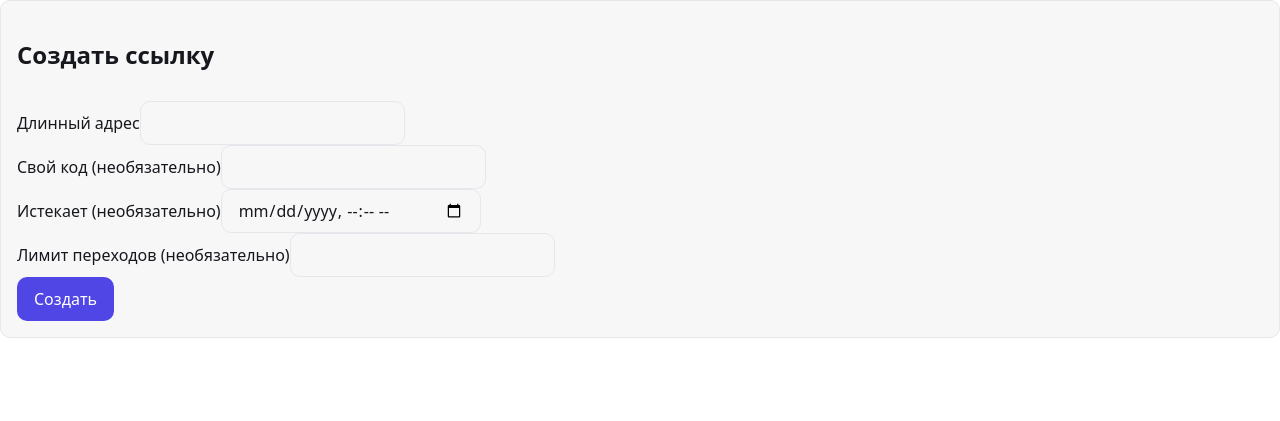
Test: LinkForm › префикс не из этой формы кладёт текст под форму, а не под поле
Type "https://example.com" into the field labelled "Длинный адрес" at [272, 123], box [140,101,405,145]
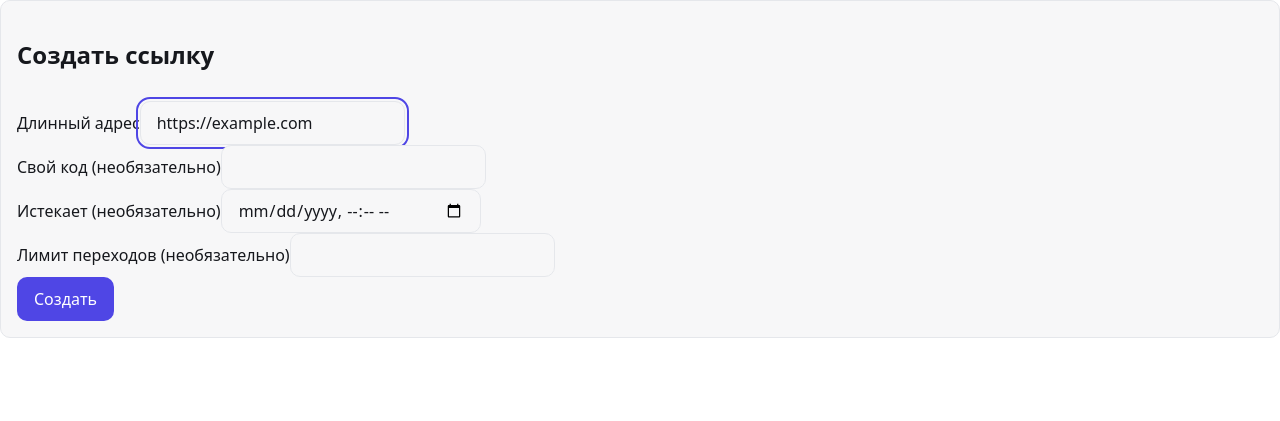
Click the button "Создать" at [66, 299], box [17,277,114,321]
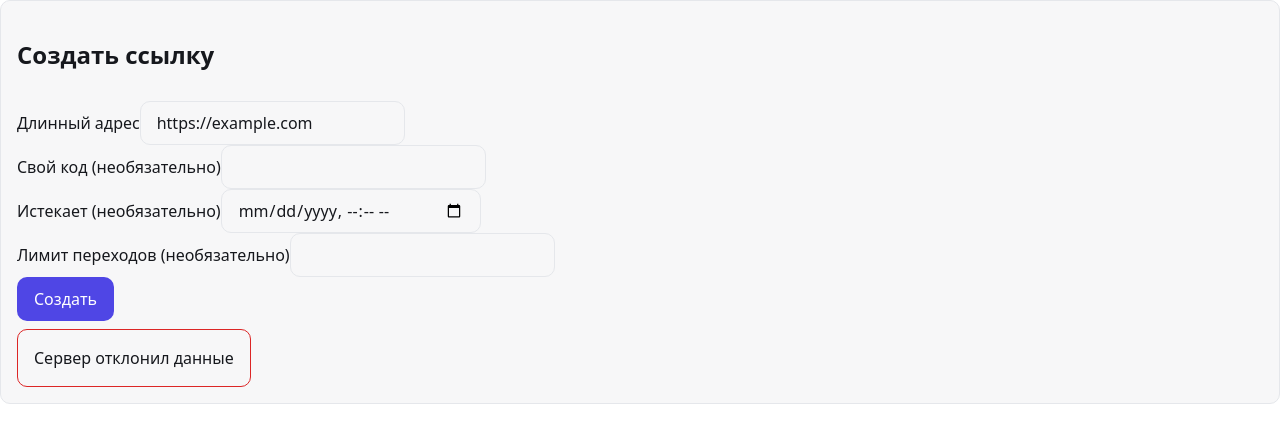
expect the message reads "Сервер отклонил данные": met, box [34,347,234,369]
